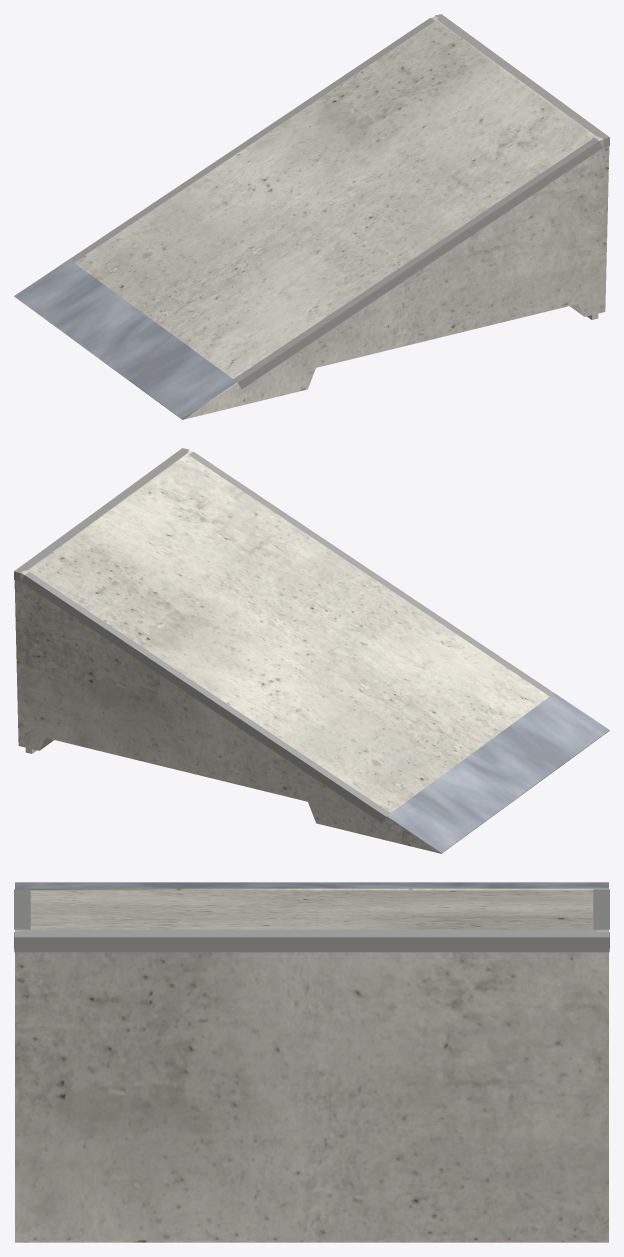
File: bank-75.gltf
3 renders of one model, top to bottom at view 1: azimuth 30°, elevation 25°; view 2: azimuth 150°, elevation 25°; view 3: azimuth 270°, elevation 25°, orthographic. The views are drawn at different scales.
Visible parts, largest first — view 1: SK0019_Bank_-75.001; view 2: SK0019_Bank_-75.001; view 3: SK0019_Bank_-75.001.
Part boxes in pixels (bbox=[...]): SK0019_Bank_-75.001: bbox=[14, 14, 609, 419]; SK0019_Bank_-75.001: bbox=[14, 448, 609, 853]; SK0019_Bank_-75.001: bbox=[14, 882, 609, 1242].
Size of the model in its own units: 1.83 by 0.73 by 1.25.
